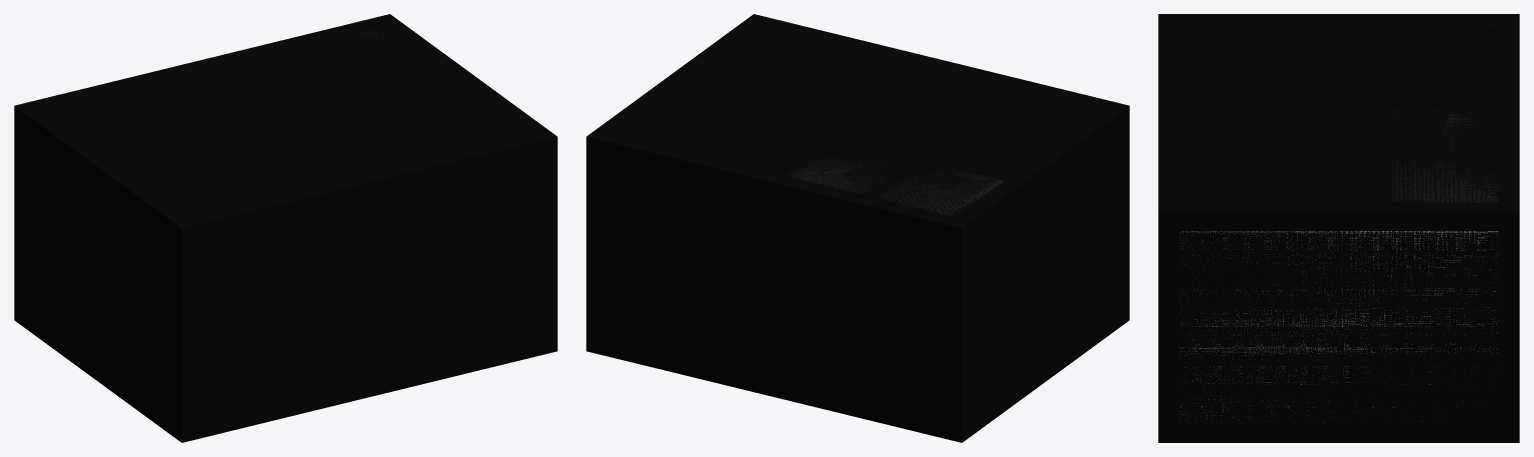
Rendered from Room1.fbx.
3 views of the same model, side by side, from view 1: azimuth 30°, elevation 25°; view 2: azimuth 150°, elevation 25°; view 3: azimuth 270°, elevation 25° (orthographic). The views are drawn at different scales.
Parts seen in each view (by area): view 1: Plane; view 2: Plane, Lamp, Lamp.001; view 3: Plane, Lamp.003.
Part boxes in pixels (x1,y1,x2,y2): Plane: (14, 14, 557, 442); Plane: (586, 14, 1129, 442); Lamp: (877, 170, 1003, 215); Lamp.001: (789, 156, 906, 192); Plane: (1158, 14, 1519, 442); Lamp.003: (1392, 162, 1498, 202).
Size of the model in its own units: 2199 by 1200 by 1699.
